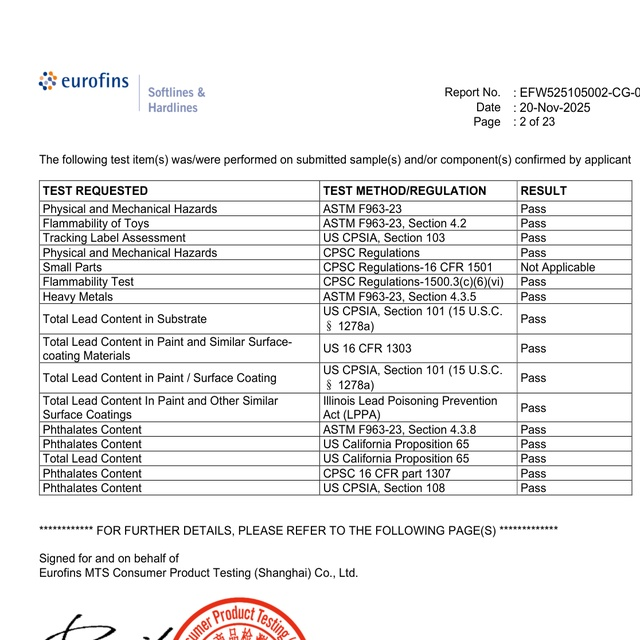eurofins: (39, 69, 134, 96)
